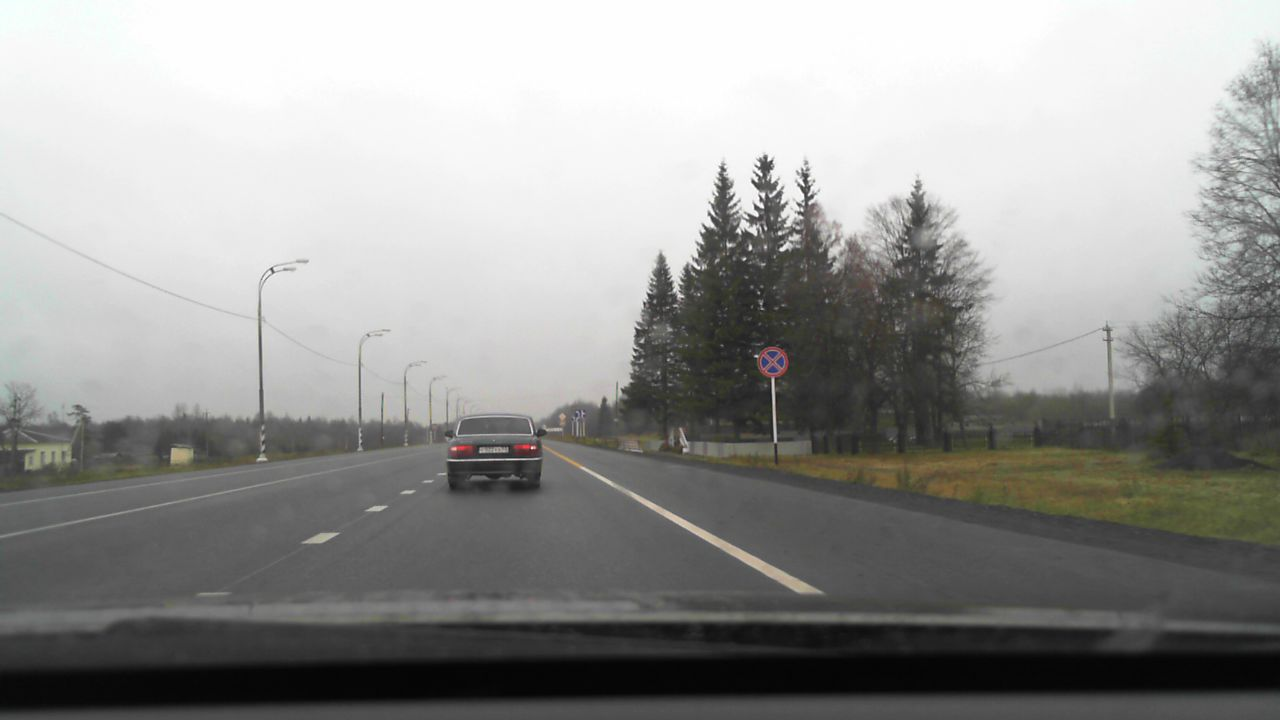No Parking: (757, 346, 789, 378)
